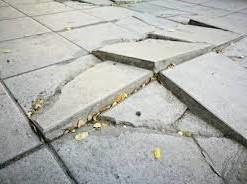alligator-crack: (8, 12, 247, 144)
